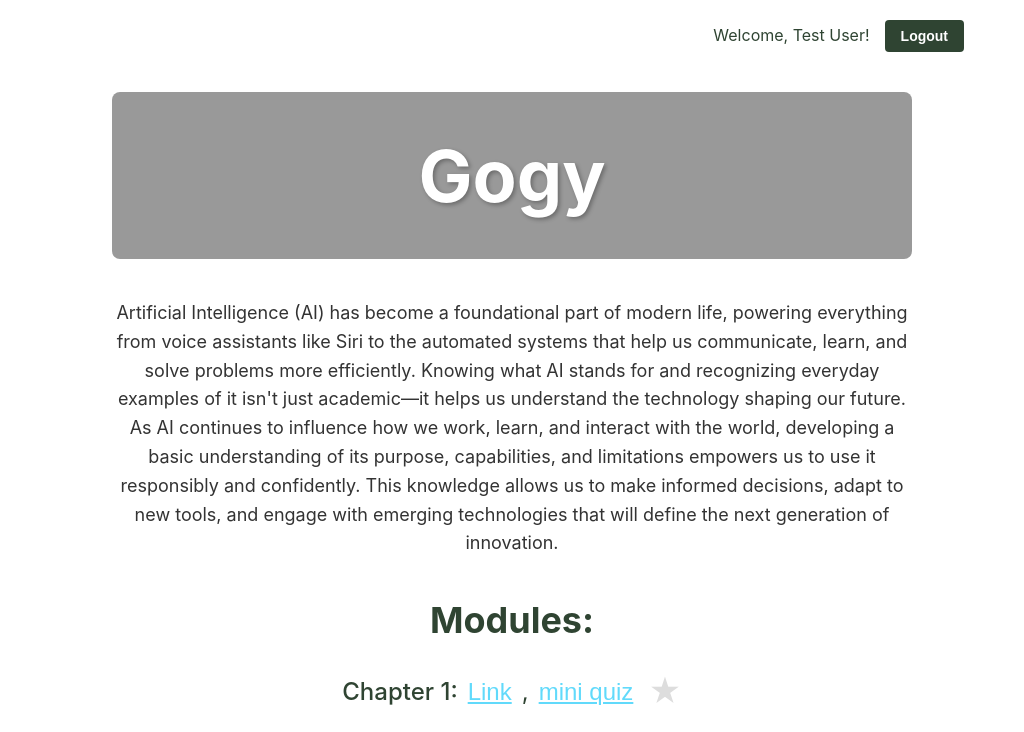
Test: Quiz Feature Tests › should display quiz questions when clicking mini quiz link
Note: Find and click the first mini quiz link
Click the 1st button "mini quiz" at x=586, y=692, box [539, 678, 633, 706]
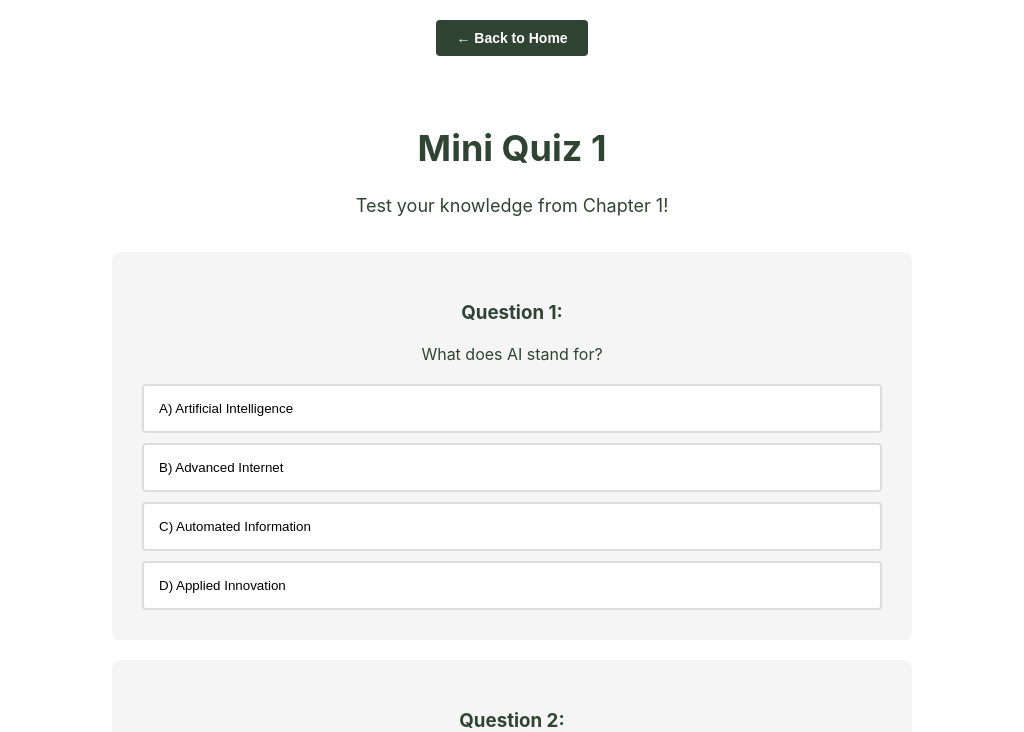
Now the heading "Mini Quiz 1" is shown, box [418, 126, 606, 170]
Now the heading "Question 1:" is shown, box [461, 301, 563, 324]
Now the text "What does AI stand for?" is shown, box [421, 344, 603, 364]
